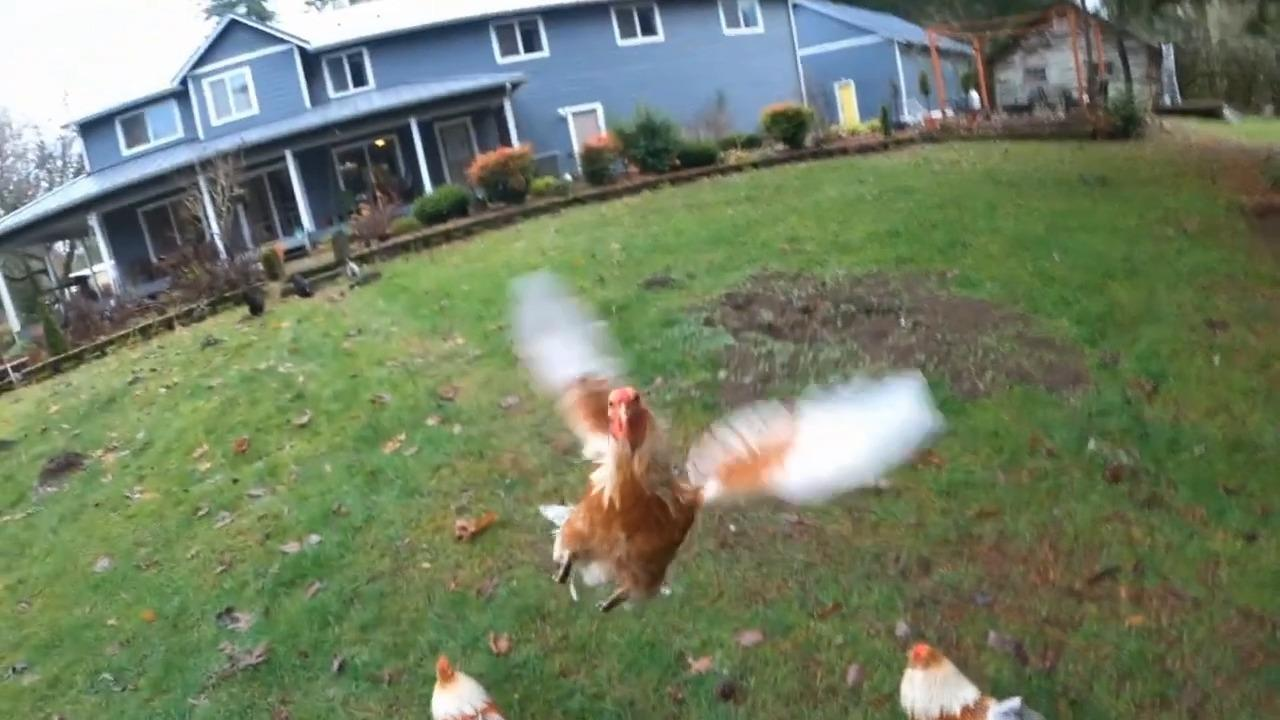Normal: (496, 264, 934, 612), (866, 640, 1050, 720)
